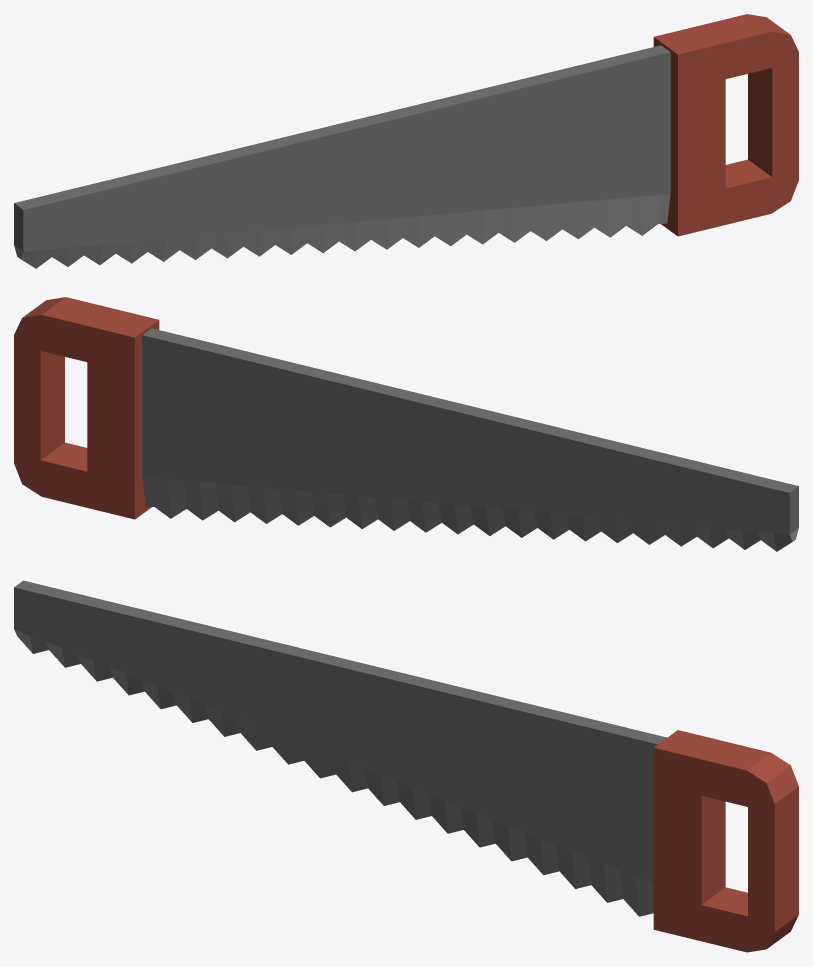
Rendered from Tools_02.fbx.
3 renders of one model, top to bottom at view 1: azimuth 30°, elevation 25°; view 2: azimuth 150°, elevation 25°; view 3: azimuth 330°, elevation 25°, orthographic.
Parts seen in each view (by area): view 1: Tools_02; view 2: Tools_02; view 3: Tools_02.
Boxes of the visible parts, x1,y1,x2,y2 form: Tools_02: [14, 14, 798, 268]; Tools_02: [14, 297, 798, 551]; Tools_02: [14, 580, 798, 952].
Bounding box in the file's own units: 69.63 × 15.85 × 3.81.
